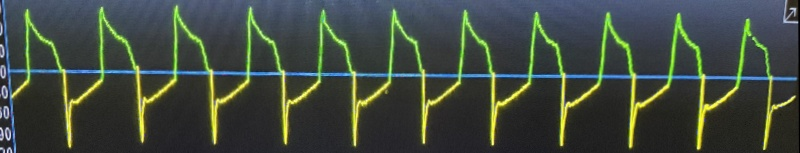peepi: (6, 0, 775, 152)
